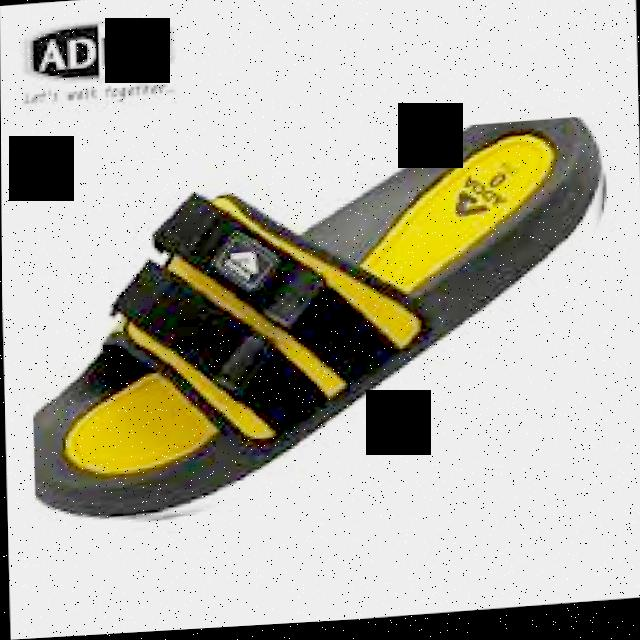shoe: (26, 122, 615, 533)
